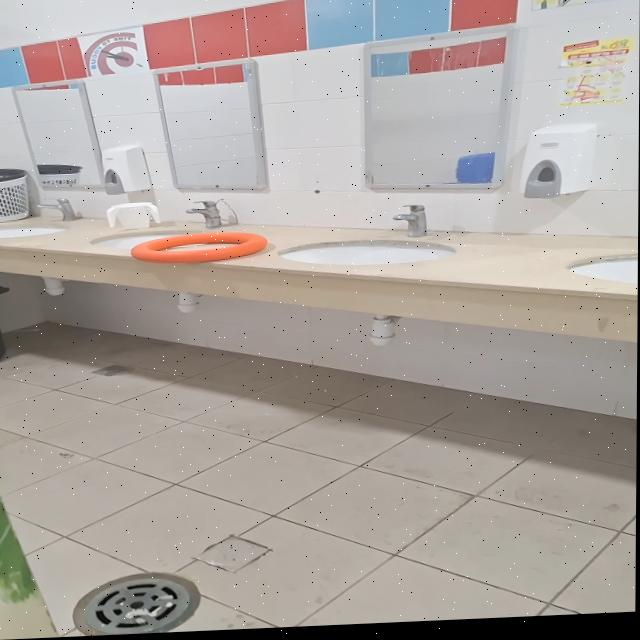note: (130, 231, 271, 268)
